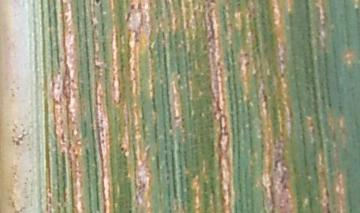tarspot: (118, 144, 126, 153), (91, 1, 104, 6)
